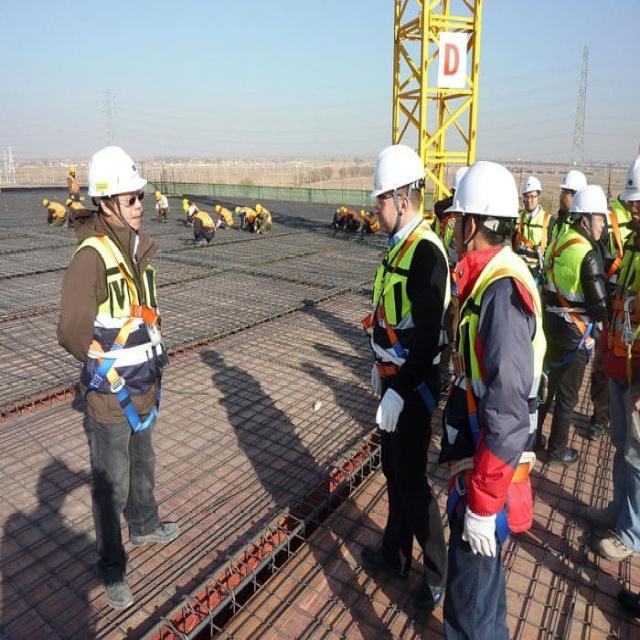helmet: (455, 215, 519, 341), (87, 195, 143, 308), (375, 189, 423, 312), (570, 244, 604, 317), (622, 208, 639, 301), (559, 225, 586, 276), (522, 233, 543, 280)
vest: (444, 333, 545, 640), (68, 307, 173, 541), (373, 309, 457, 507), (539, 316, 609, 464), (601, 306, 640, 506), (517, 278, 555, 354)
